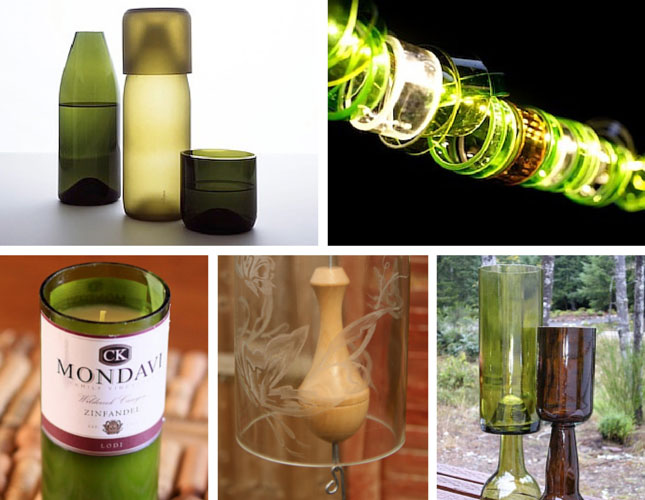glass_bottle: (120, 5, 195, 222), (52, 28, 122, 208), (177, 146, 262, 239)
